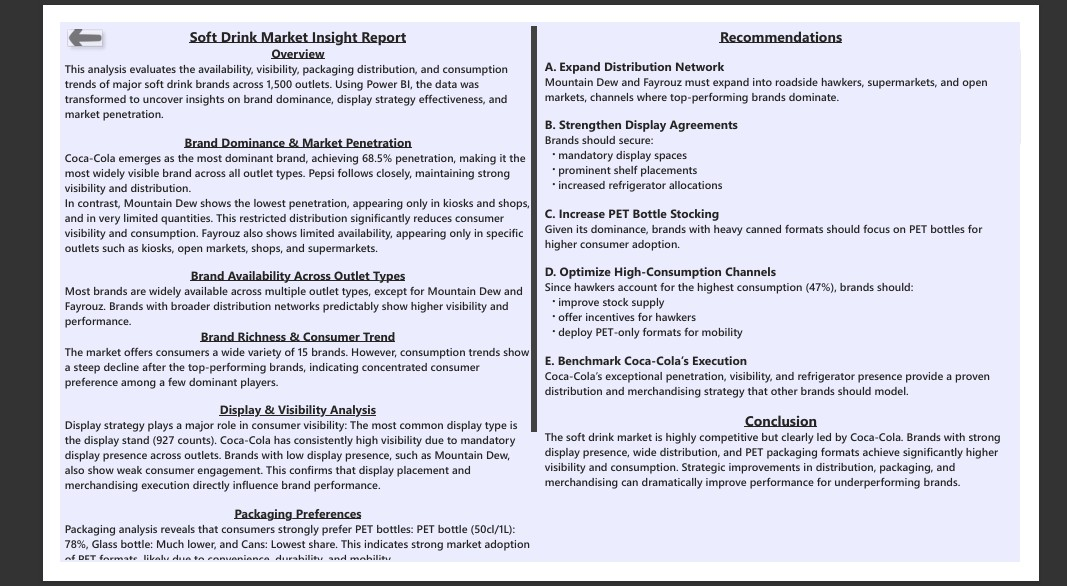

What the dashboard file says about the page in this screenshot:
{"tool":"powerbi","page":{"name":"Report/Recommendation","canvas":[1280,720],"ordinal":2},"visuals":[{"type":"textbox","box":[0,0,640,720],"z":0},{"type":"textbox","box":[640,0,640,720],"z":1000},{"type":"actionButton","box":[0,0,63.9,40.3],"z":2000}]}

Visuals, with their boxes in screenshot pixels (x1, y1, x2, y2), scaled from the page's 1280x720 canvas onto the 1067x586 screenshot:
textbox: crop(0, 0, 534, 585)
textbox: crop(534, 0, 1066, 585)
actionButton: crop(0, 0, 53, 33)
